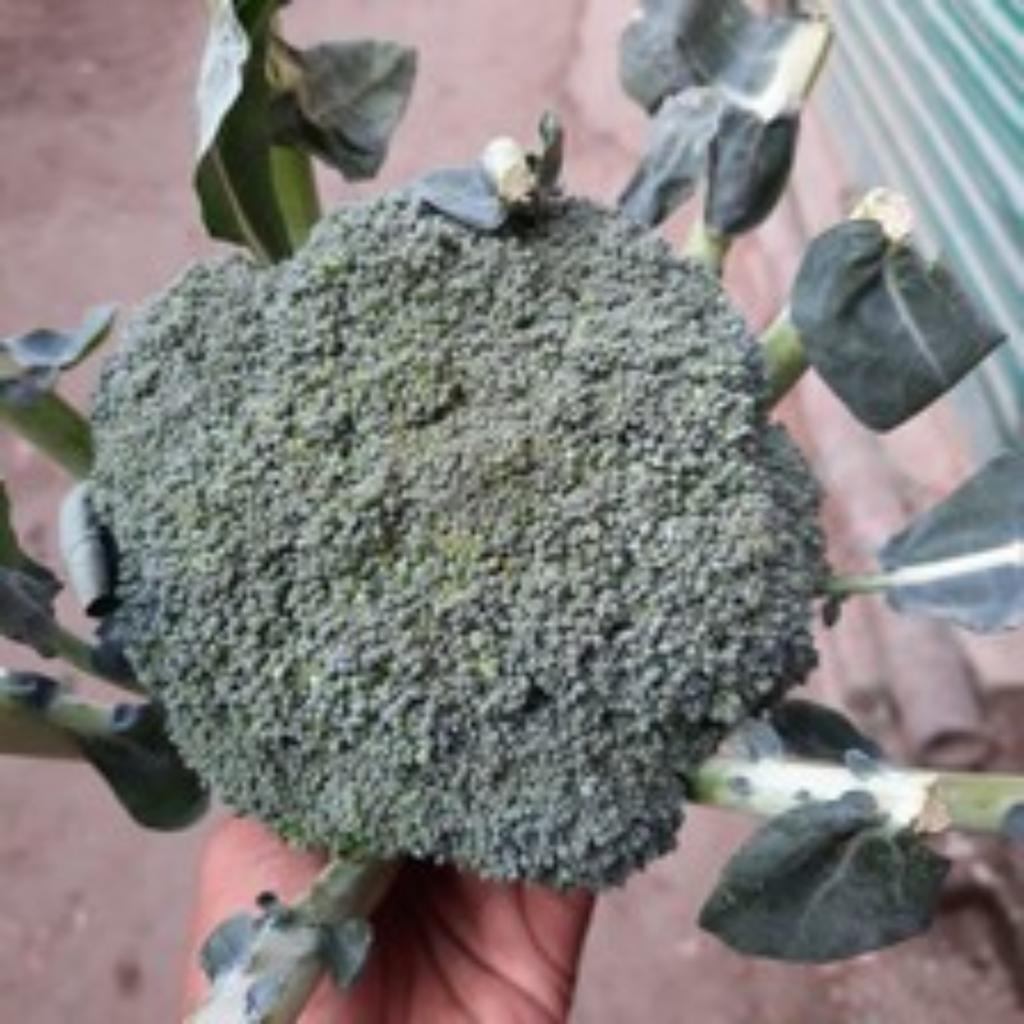Broccoli: (92, 196, 818, 887), (92, 196, 816, 887)
